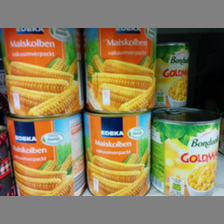corn: (2, 29, 82, 115), (81, 28, 156, 114), (5, 114, 83, 195), (152, 107, 221, 195), (83, 111, 154, 195), (156, 36, 190, 105)
